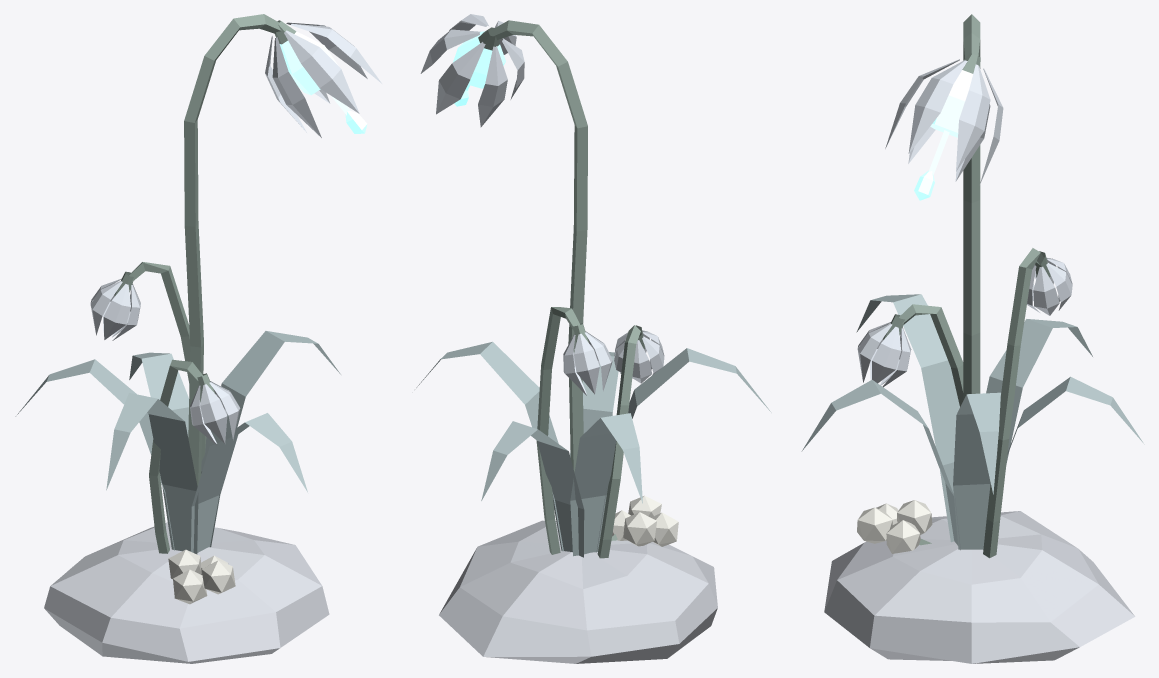
Rendered from plant_t2_c.fbx.
The picture shows the model from 3 angles, left to right: view 1: azimuth 30°, elevation 25°; view 2: azimuth 150°, elevation 25°; view 3: azimuth 270°, elevation 25°; orthographic projection. The views are drawn at different scales.
Parts seen in each view (by area): view 1: plant_t2_c; view 2: plant_t2_c; view 3: plant_t2_c.
Part boxes in pixels (x1,y1,x2,y2): plant_t2_c: [15, 14, 381, 663]; plant_t2_c: [416, 14, 771, 663]; plant_t2_c: [801, 14, 1144, 663].
Bounding box in the file's own units: 20.92 × 37.99 × 18.97.
